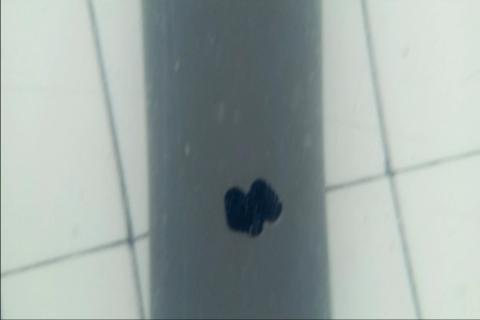kebocoran: (222, 175, 284, 239)
